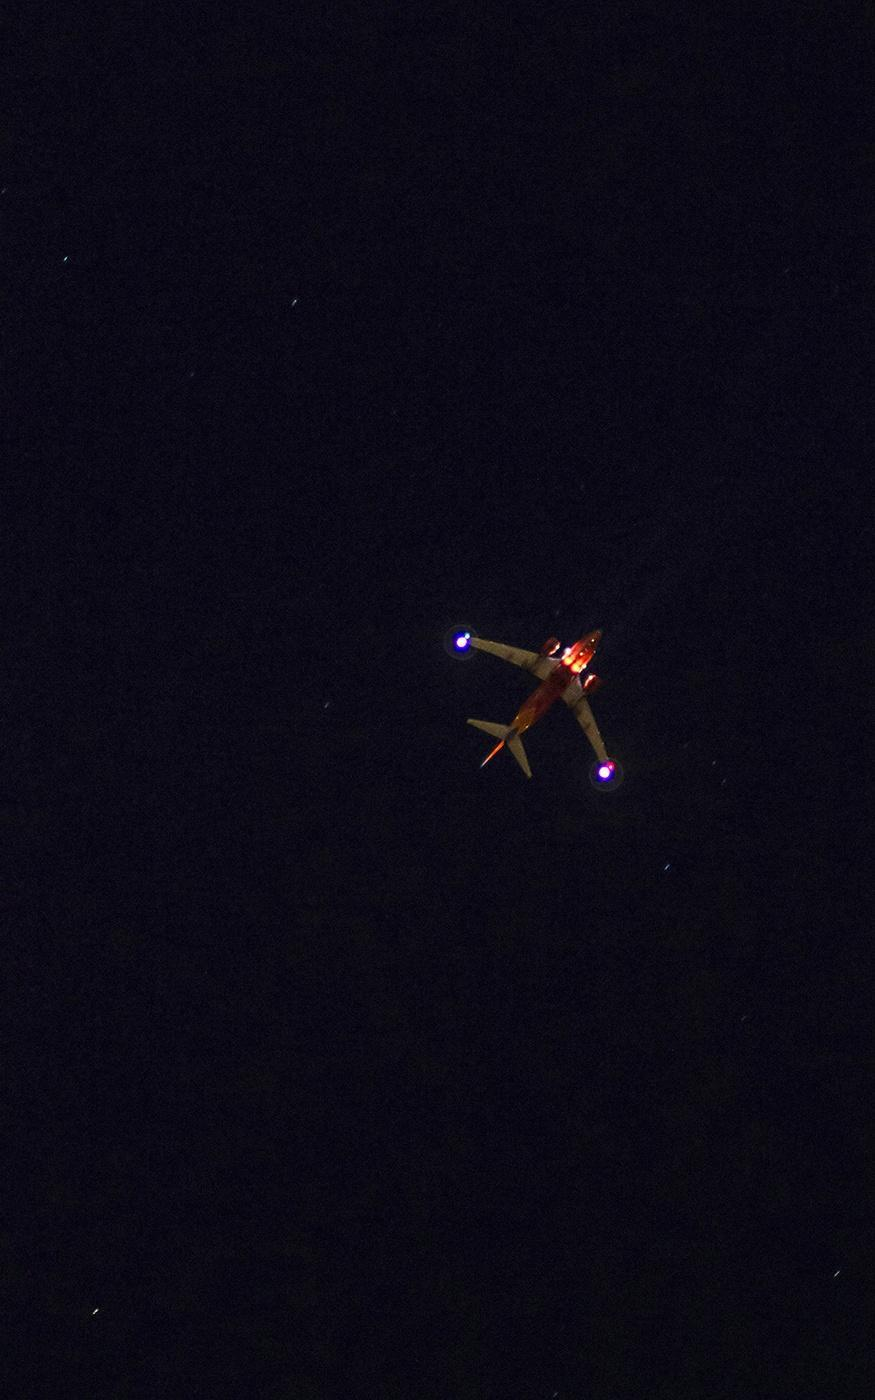Plane: (442, 611, 634, 806)
